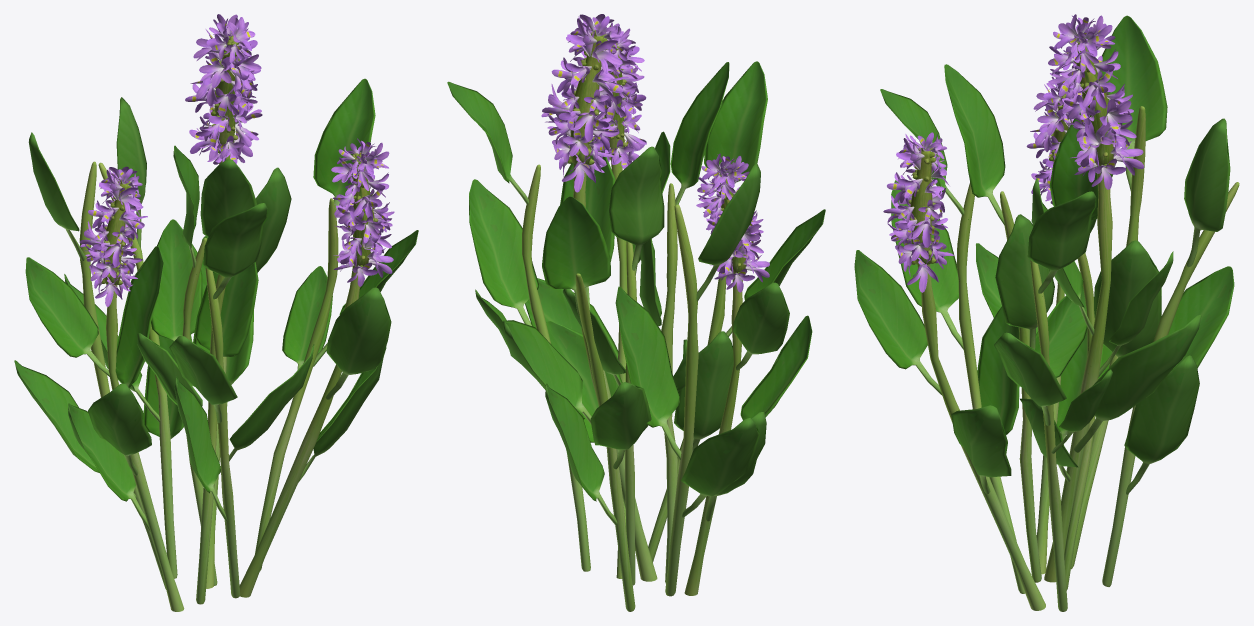
File: purple_pickerel_rush_flowers.fbx
3 renders of one model, left to right at view 1: azimuth 30°, elevation 25°; view 2: azimuth 150°, elevation 25°; view 3: azimuth 270°, elevation 25°, orthographic. The views are drawn at different scales.
Visible parts, largest first — view 1: purple_pickerel_rush_leaves, purple_pickerel_rush_flowers; view 2: purple_pickerel_rush_leaves, purple_pickerel_rush_flowers; view 3: purple_pickerel_rush_leaves, purple_pickerel_rush_flowers.
Part boxes in pixels (<box>): purple_pickerel_rush_leaves: <box>14,78,418,604</box>; purple_pickerel_rush_flowers: <box>79,14,394,611</box>; purple_pickerel_rush_leaves: <box>447,61,825,611</box>; purple_pickerel_rush_flowers: <box>541,14,769,595</box>; purple_pickerel_rush_leaves: <box>854,15,1239,611</box>; purple_pickerel_rush_flowers: <box>883,14,1144,610</box>.
Size of the model in its own units: 81.75 by 126 by 73.64.
Materials: 2 (2 with a texture image).
